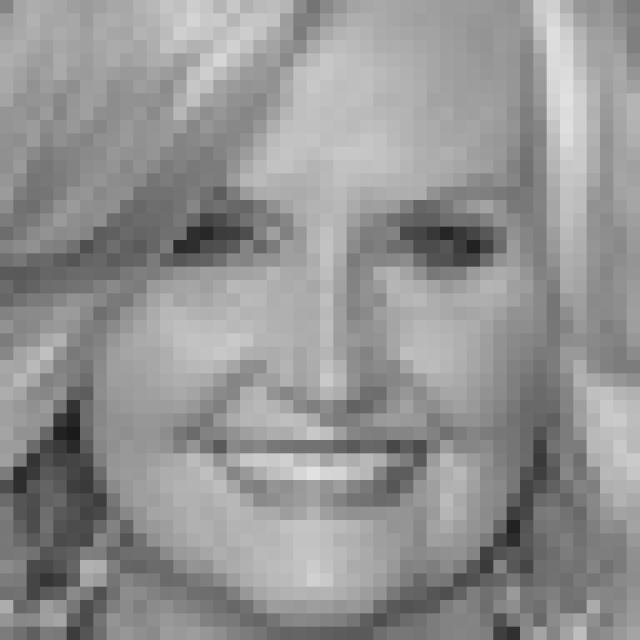happy: (158, 172, 536, 531)
